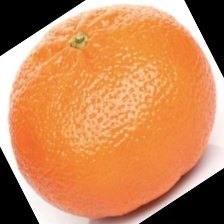orange: (39, 49, 198, 211)
